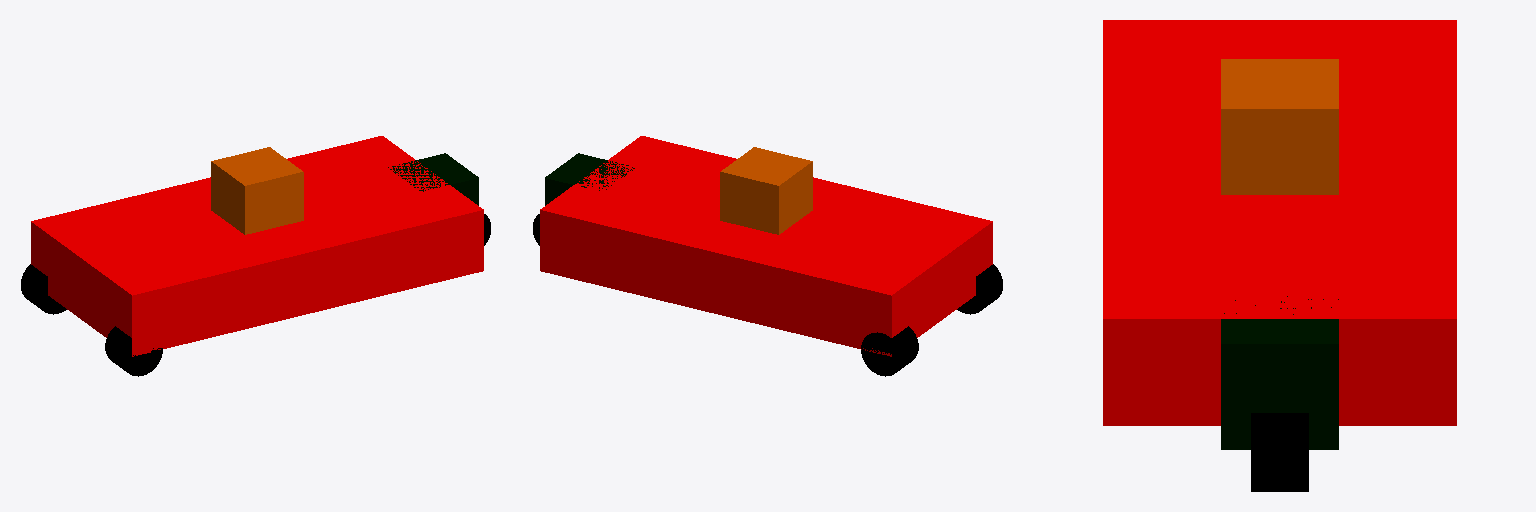
The robot description file, URDF, robot "explorer_bot":
<?xml version="1.0"?>
<robot name="explorer_bot">

    <link name="base_link">
        <visual>
            <geometry>
                <box size="0.6 0.3 0.1"/>
            </geometry>
            <material name="red">
                <color rgba="1 0.0 0.0 1"/>
            </material>
        </visual>
        <collision>
            <geometry>
                <box size="0.6 0.3 0.1"/>
            </geometry>
        </collision>
        <inertial>
            <mass value="1.0"/>
            <inertia ixx="0.015" ixy="0" ixz="0" iyy="0.0375" iyz="0.0" izz="0.0375"/>
        </inertial>
        
    </link>



    <link name="front_caster_of_wheel">
        <visual>
            <geometry>
                <box size="0.1 0.1 0.1"/>
            </geometry>
            <material name="green">
                <color rgba="0.0 0.1 0.0 1"/>   
            </material>
        </visual>
        <collision>
            <geometry>
                <box size="0.1 0.1 0.1"/>
            </geometry>
        </collision>
        <inertial>
            <mass value="0.1"/>
            <inertia ixx="0.00083" ixy="0" ixz="0" iyy="0.00083" iyz="0.0" izz="0.000167"/>
        </inertial>
    </link>
    <joint name="front_caster_of_wheel_joint" type="continuous">
       <axis xyz="0.0 0.0 1"/> 
       <parent link="base_link"/>
       <child link="front_caster_of_wheel"/>
       <origin xyz="0.3 0.0 0.0" rpy="0.0 0.0 0.0"/>
    </joint>

    <link name="front_wheel">
        <visual>
            <geometry>
                <cylinder radius="0.035" length="0.05"/>
            </geometry>
            <material name="black">
                
            </material>

        </visual>
        <collision>
            <geometry>
                <cylinder radius="0.035" length="0.05"/>
            </geometry>
        </collision>
        <inertial>
            <mass value="0.1"/>
            <inertia ixx="5.1458e-5" ixy="0" ixz="0" iyy="5.1458e-5" iyz="0.0" izz="6.125e-5"/>
        </inertial>
    </link>

    <joint name="front_wheel_joint" type="continuous">
        <axis xyz="0.0 0.0 1"/>
        <parent link="front_caster_of_wheel"/>
        <child link="front_wheel"/>
        <origin xyz="0.05 0.0 -0.05" rpy="-1.5708 0.0 0.0"/>
        
    </joint>

<link name="right_wheel">
        <visual>
            <geometry>
                <cylinder radius="0.035" length="0.05"/>
            </geometry>
            <material name="black">
                <color rgba="0.0 0.0 0.0 1"/>
            </material>

        </visual>
        <collision>
            <geometry>
                <cylinder radius="0.035" length="0.05"/>
            </geometry>
        </collision>
        <inertial>
            <mass value="0.1"/>
            <inertia ixx="5.1458e-5" ixy="0" ixz="0" iyy="5.1458e-5" iyz="0.0" izz="6.125e-5"/>        </inertial>
    </link>

    <joint name="right_wheel_joint" type="continuous">
        <axis xyz="0.0 0.0 1"/>
        <parent link="base_link"/>
        <child link="right_wheel"/>
        <origin xyz="-0.2825 -0.125 -0.05" rpy="-1.5708 0.0 0.0"/>
        
    </joint>
    <link name="left_wheel">
        <visual>
            <geometry>
                <cylinder radius="0.035" length="0.05"/>
            </geometry>
            <material name="black">
                <color rgba="0.0 0.0 0.0 1"/>
            </material>

        </visual>
        <collision>
            <geometry>
                <cylinder radius="0.035" length="0.05"/>
            </geometry>
        </collision>
        <inertial>
            <mass value="0.1"/>
            <inertia ixx="5.1458e-5" ixy="0" ixz="0" iyy="5.1458e-5" iyz="0.0" izz="6.125e-5"/>        </inertial>
    </link>

    <joint name="left_wheel_joint" type="continuous">
        <axis xyz="0.0 0.0 1"/>
        <parent link="base_link"/>
        <child link="left_wheel"/>
        <origin xyz="-0.2825 0.125 -0.05" rpy="-1.5708 0.0 0.0"/>
        
    </joint>


    <link name="laser_scanner">
        <visual>
            <geometry>
                <box size="0.1 0.1 0.1"/>
            </geometry>
        </visual>

        <collision>
            <geometry>
                <box size="0.1 0.1 0.1"/>
            </geometry>
        </collision>

        <inertial>
            <mass value="1e-5"/>
            <inertia ixx="1e-6" ixy="0" ixz="0.0" iyy="1e-6" iyz="0.0" izz="1e-6"/>
        </inertial>
    </link>

    <joint name="laser_scanner_joint" type="fixed">
        <axis xyz="0.0 1 0.0"/>
        <parent link="base_link"/>
        <child link="laser_scanner"/>
        <origin xyz="0.0 0.0 0.08" rpy="0.0 0.0 0.0"/>
    </joint>

    <gazebo reference="laser_scanner">
        <sensor type="ray" name="laser">
            <pose>0 0 0 0 0 0</pose>
            <visualize>true</visualize>
            <update_rate>40</update_rate>
            <ray>
                <scan>
                    <horizontal>
                        <samples>720</samples>
                        <resolution>1</resolution>
                        <min_angle>-1.578</min_angle>
                        <max_angle>1.578</max_angle>
                    </horizontal>
                </scan>
                <range>
                    <min>0.1</min>
                    <max>10</max>
                    <resolution>0.1</resolution>
                </range>
            </ray>
            <plugin name="Lidar" filename="libgazebo_ros_laser.so">
                <topicName>/scan</topicName>
                <frameName>laser_scanner</frameName>
            </plugin>
        </sensor>
    </gazebo>


    <gazebo>
        <plugin name="explorer_bot_controller"   filename="libgazebo_ros_diff_drive.so">
            <leftJoint>left_wheel_joint</leftJoint>
            <rightJoint>right_wheel_joint</rightJoint>
            <legacyMode>false</legacyMode>
            <robotBaseFrame>base_link</robotBaseFrame>
            <wheelSeparation>0.25</wheelSeparation>
            <wheelDiameter>0.07</wheelDiameter>
            <publishWheelJointState>true</publishWheelJointState>
        </plugin>
        
    </gazebo>
       <gazebo>
        <plugin name="joint_state_publisher"
                filename="libgazebo_ros_joint_state_publisher.so">
            <jointName>front_caster_of_wheel_joint, front_wheel_joint</jointName>
        </plugin>
    </gazebo>


   


    <gazebo reference="base_link">
        <material>Gazebo/Orange</material>
    </gazebo>

    <gazebo reference="front_caster_of_wheel">
        <material>Gazebo/Red</material>
      </gazebo>
      <gazebo reference="front_wheel">
        <material>Gazebo/Black</material>
      </gazebo>
      <gazebo reference="left_wheel">
        <material>Gazebo/Black</material>
      </gazebo>
      <gazebo reference="right_wheel">
        <material>Gazebo/Black</material>
      </gazebo>




    </robot>

--- Facts derived from the render (not from the file) ---
The picture shows the robot from 3 angles, left to right: view 1: azimuth 30°, elevation 25°; view 2: azimuth 150°, elevation 25°; view 3: azimuth 270°, elevation 25°; orthographic projection.
Robot: explorer_bot — 6 links, 5 joints (4 continuous, 1 fixed); root link base_link; default pose: every joint at zero.
Visible links, largest first — view 1: base_link, laser_scanner, front_caster_of_wheel, right_wheel, left_wheel; view 2: base_link, laser_scanner, left_wheel, front_caster_of_wheel, right_wheel; view 3: base_link, laser_scanner, front_caster_of_wheel, front_wheel.
Boxes of the visible links, x1,y1,x2,y2 form: base_link: [31, 136, 483, 356]; laser_scanner: [211, 147, 303, 234]; front_caster_of_wheel: [388, 153, 478, 205]; right_wheel: [105, 326, 162, 376]; left_wheel: [21, 264, 66, 314]; base_link: [540, 136, 992, 356]; laser_scanner: [720, 147, 812, 234]; left_wheel: [861, 326, 918, 376]; front_caster_of_wheel: [545, 153, 634, 205]; right_wheel: [957, 264, 1002, 314]; base_link: [1103, 20, 1456, 425]; laser_scanner: [1221, 59, 1338, 194]; front_caster_of_wheel: [1221, 296, 1338, 449]; front_wheel: [1251, 413, 1308, 491].
Bounding box of the posed robot: 0.7025 × 0.3 × 0.215 m (x, y, z).
Geometry: primitives only (box / cylinder / sphere), no mesh files.
